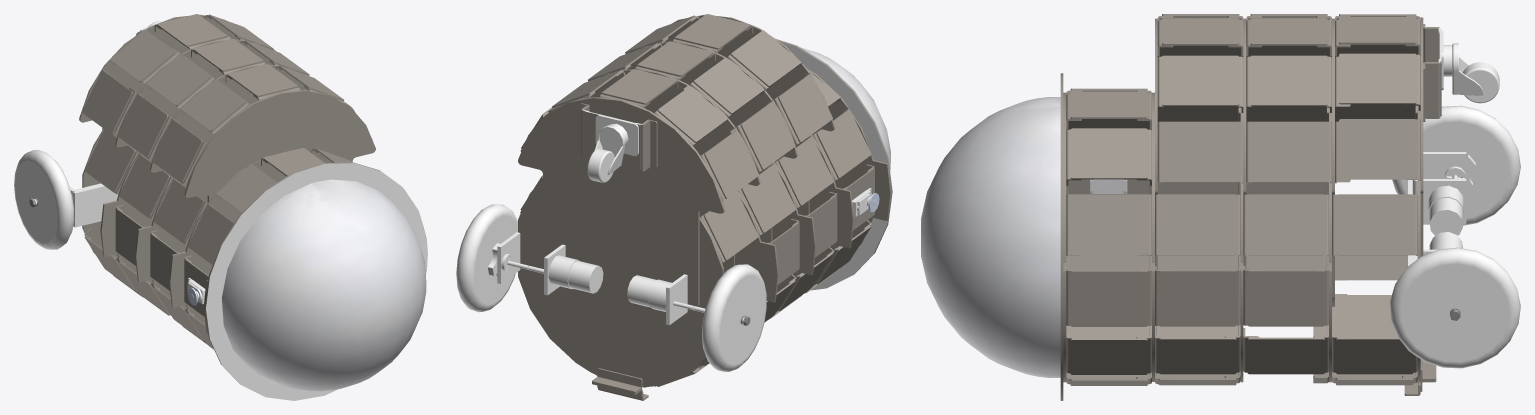
The model's file is body.dae.
3 renders of one model, left to right at view 1: azimuth 30°, elevation 25°; view 2: azimuth 150°, elevation 25°; view 3: azimuth 270°, elevation 25°, orthographic. The views are drawn at different scales.
Visible parts, largest first — view 1: Actor0; view 2: Actor0; view 3: Actor0.
Part boxes in pixels (left/top/right/bottom): Actor0: left=14, top=14, right=427, bottom=400; Actor0: left=456, top=14, right=892, bottom=400; Actor0: left=921, top=14, right=1520, bottom=400.
Bounding box in the file's own units: 0.3872 × 0.4059 × 0.6209.
8 materials, 2 textured.
